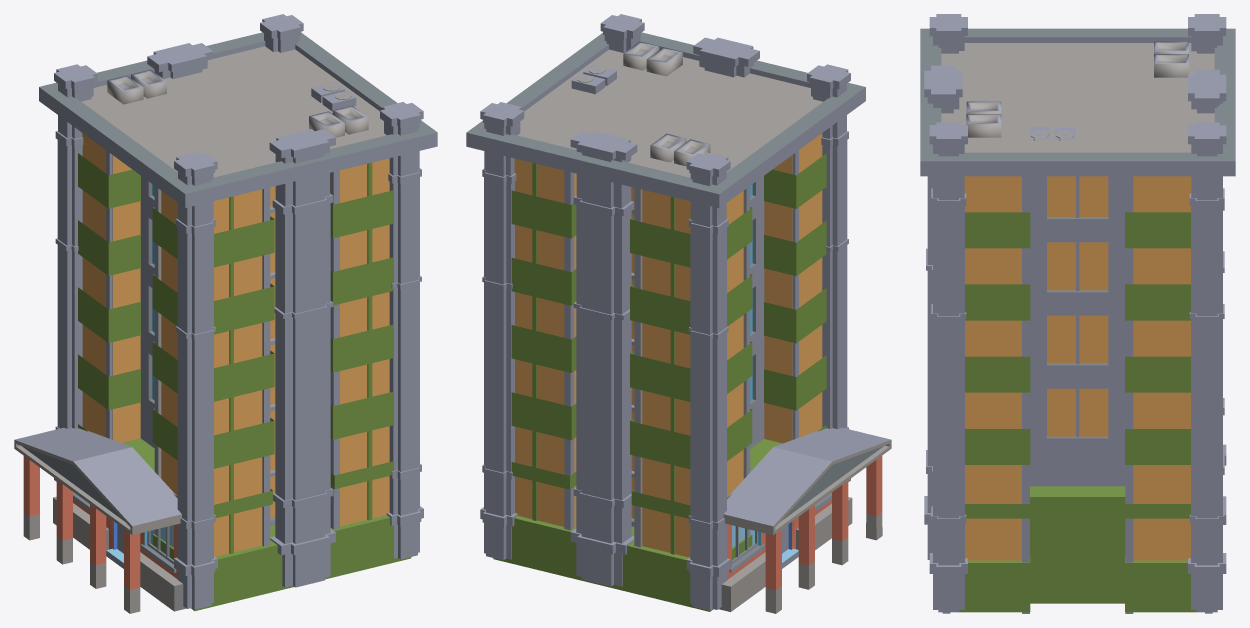
Rendered from putong_zhongxing06.fbx.
3 renders of one model, left to right at view 1: azimuth 30°, elevation 25°; view 2: azimuth 150°, elevation 25°; view 3: azimuth 270°, elevation 25°, orthographic. The views are drawn at different scales.
Visible parts, largest first — view 1: putong_zhongxing06; view 2: putong_zhongxing06; view 3: putong_zhongxing06.
Part boxes in pixels (box(x1,y1,x2,y2)): putong_zhongxing06: box(14, 14, 437, 613); putong_zhongxing06: box(466, 14, 891, 613); putong_zhongxing06: box(920, 14, 1235, 613).
Bounding box in the file's own units: 539 × 469 × 794.
